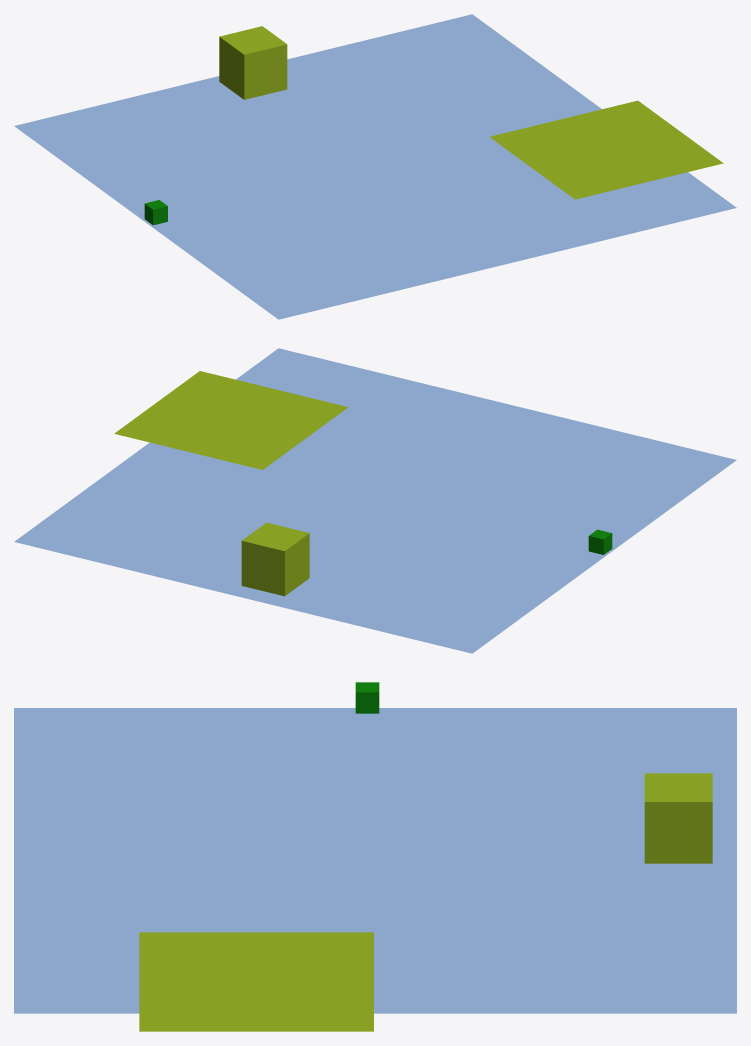
3 renders of one model, top to bottom at view 1: azimuth 30°, elevation 25°; view 2: azimuth 150°, elevation 25°; view 3: azimuth 270°, elevation 25°, orthographic. The views are drawn at different scales.
Parts seen in each view (by area): view 1: Plane01, Plane02, Box01, Box02; view 2: Plane01, Plane02, Box01, Box02; view 3: Plane01, Plane02, Box01, Box02.
Boxes of the visible parts, x1,y1,x2,y2 form: Plane01: (14, 14, 736, 319); Plane02: (489, 100, 723, 199); Box01: (219, 26, 287, 99); Box02: (144, 200, 167, 225); Plane01: (14, 348, 736, 653); Plane02: (114, 371, 348, 469); Box01: (241, 522, 309, 596); Box02: (588, 529, 612, 554); Plane01: (14, 708, 736, 1013); Plane02: (139, 932, 373, 1031); Box01: (644, 773, 712, 863); Box02: (355, 682, 379, 713).
Bounding box in the file's own units: 177 × 165 × 16.51.
